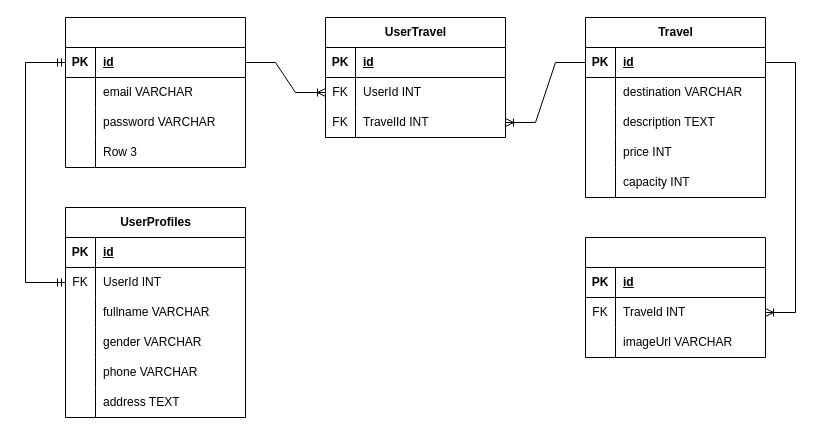
Some shapes in this 821 by 435 pixel diagram are drawn without their labels. Here are the shapes that lost their labels. From the top down, the box of each, then its label:
(64, 16, 246, 168): Users
(584, 236, 766, 358): Images
